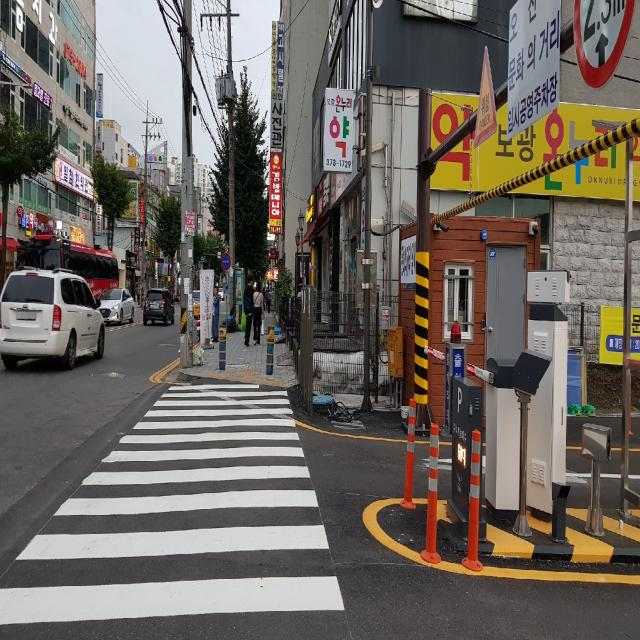횡단보도: (0, 383, 346, 626)
